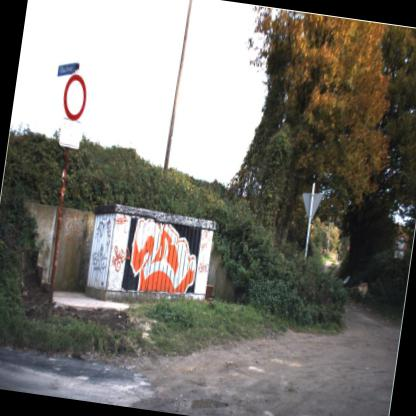prohibitory: (58, 65, 95, 127)
